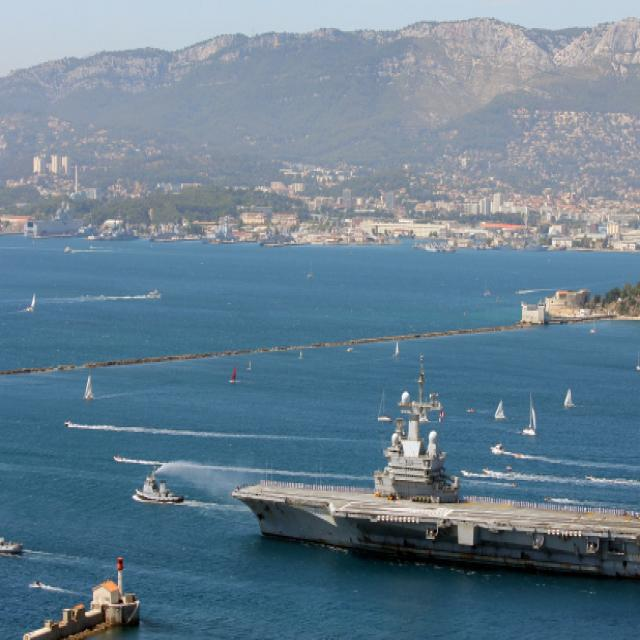Portanaves: (229, 350, 640, 593)
